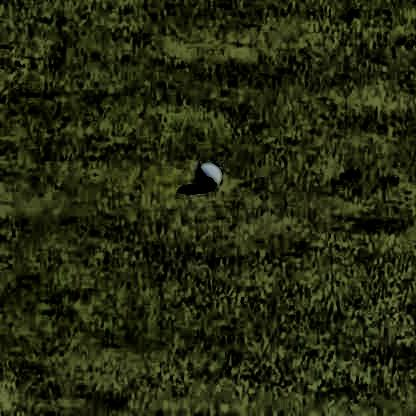golfball: (194, 156, 219, 186)
